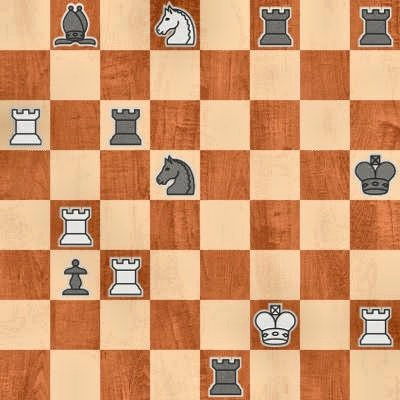black-bishop: (50, 0, 100, 50)
black-king: (350, 150, 400, 200)
black-knight: (150, 150, 200, 200)
black-pawn: (50, 250, 100, 300)
black-rook: (250, 0, 300, 50), (350, 0, 400, 50), (100, 100, 150, 150), (200, 350, 250, 400)
white-king: (250, 300, 300, 350)
white-knight: (150, 0, 200, 50)
white-rook: (0, 100, 50, 150), (50, 200, 100, 250), (100, 250, 150, 300), (350, 300, 400, 350)
